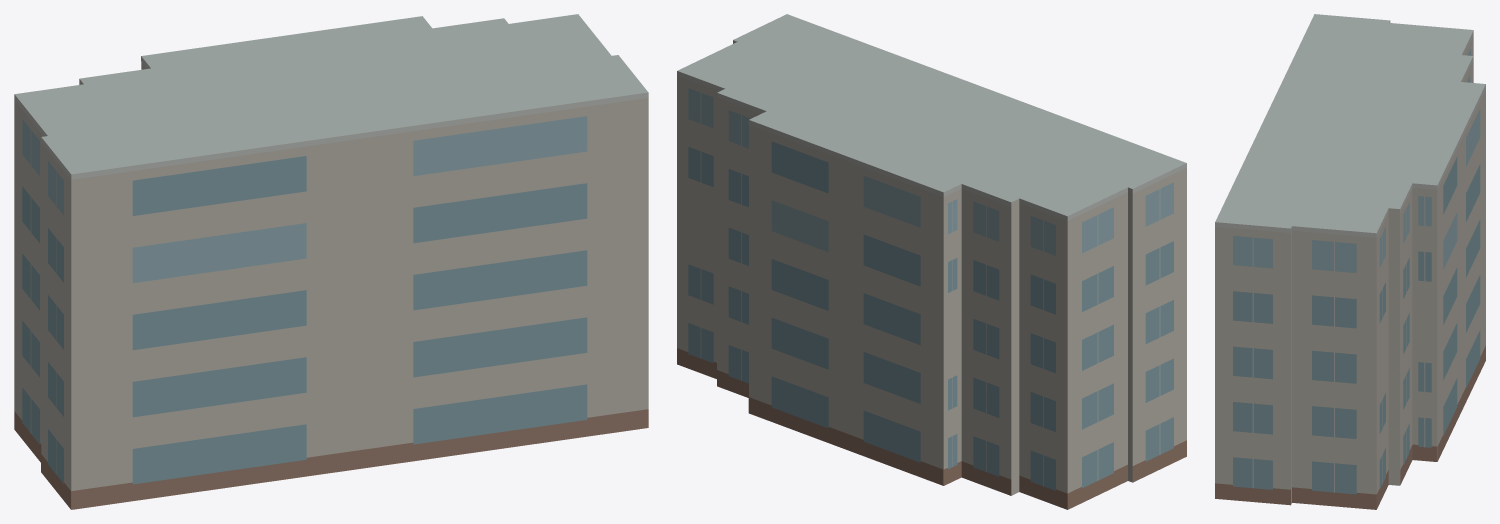
The model's file is survey-upis-32670242.glb.
3 renders of one model, left to right at view 1: azimuth 30°, elevation 25°; view 2: azimuth 150°, elevation 25°; view 3: azimuth 270°, elevation 25°, orthographic. The views are drawn at different scales.
Parts seen in each view (by area): view 1: survey-upis-32670242.tmp; view 2: survey-upis-32670242.tmp; view 3: survey-upis-32670242.tmp.
Part boxes in pixels (x1,y1,x2,y2): survey-upis-32670242.tmp: [14, 14, 648, 509]; survey-upis-32670242.tmp: [677, 14, 1186, 509]; survey-upis-32670242.tmp: [1215, 14, 1485, 509].
Bounding box in the file's own units: 25.93 × 15.25 × 13.54.
